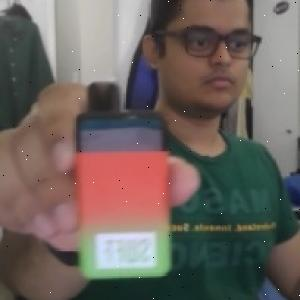Swift-E-Ciggirate: (67, 80, 179, 284)
